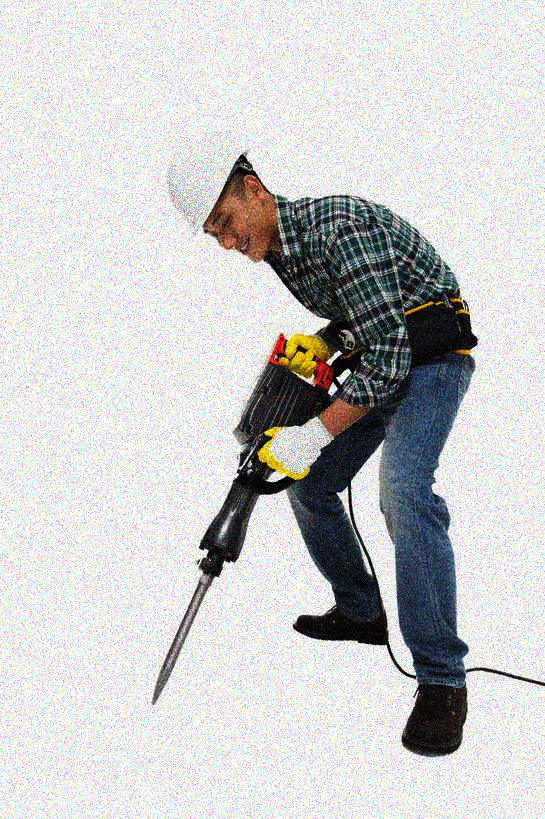helmet: (163, 129, 274, 264)
